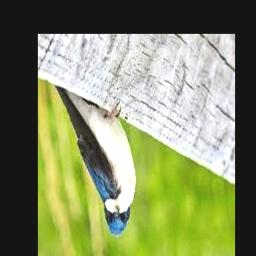Swallow: (55, 85, 136, 236)
